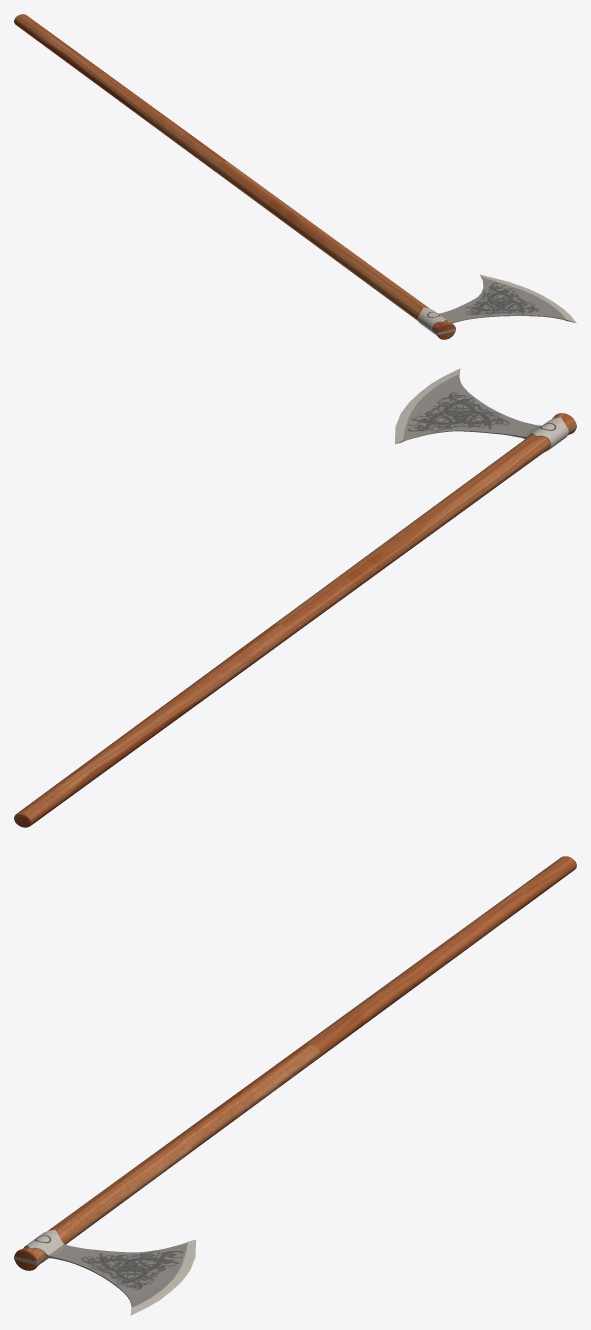
The model's file is whdaneaxe.glb.
3 renders of one model, top to bottom at view 1: azimuth 30°, elevation 25°; view 2: azimuth 150°, elevation 25°; view 3: azimuth 330°, elevation 25°, orthographic. The views are drawn at different scales.
Visible parts, largest first — view 1: g; view 2: g; view 3: g.
Boxes of the visible parts, x1,y1,x2,y2 form: g: (14,14,576,339); g: (14,368,576,827); g: (14,856,576,1315).
Size of the model in its own units: 0.309 by 0.0401 by 2.
1 material, 1 textured.
